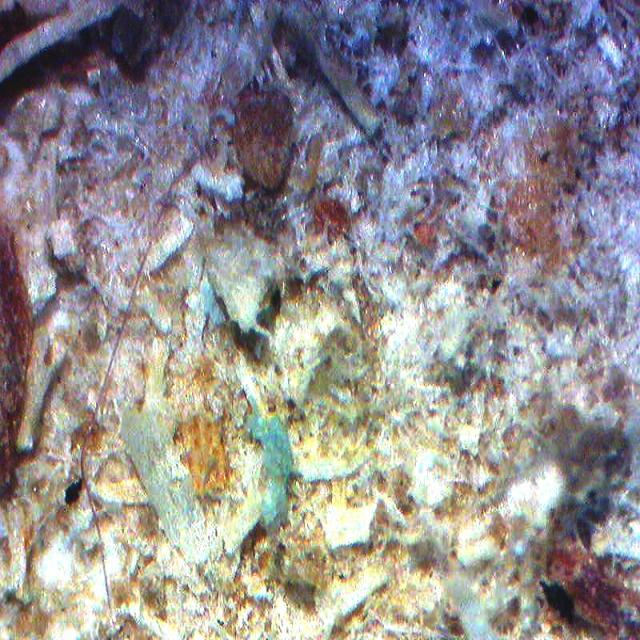microplastic: (80, 155, 198, 612), (246, 410, 293, 535)
